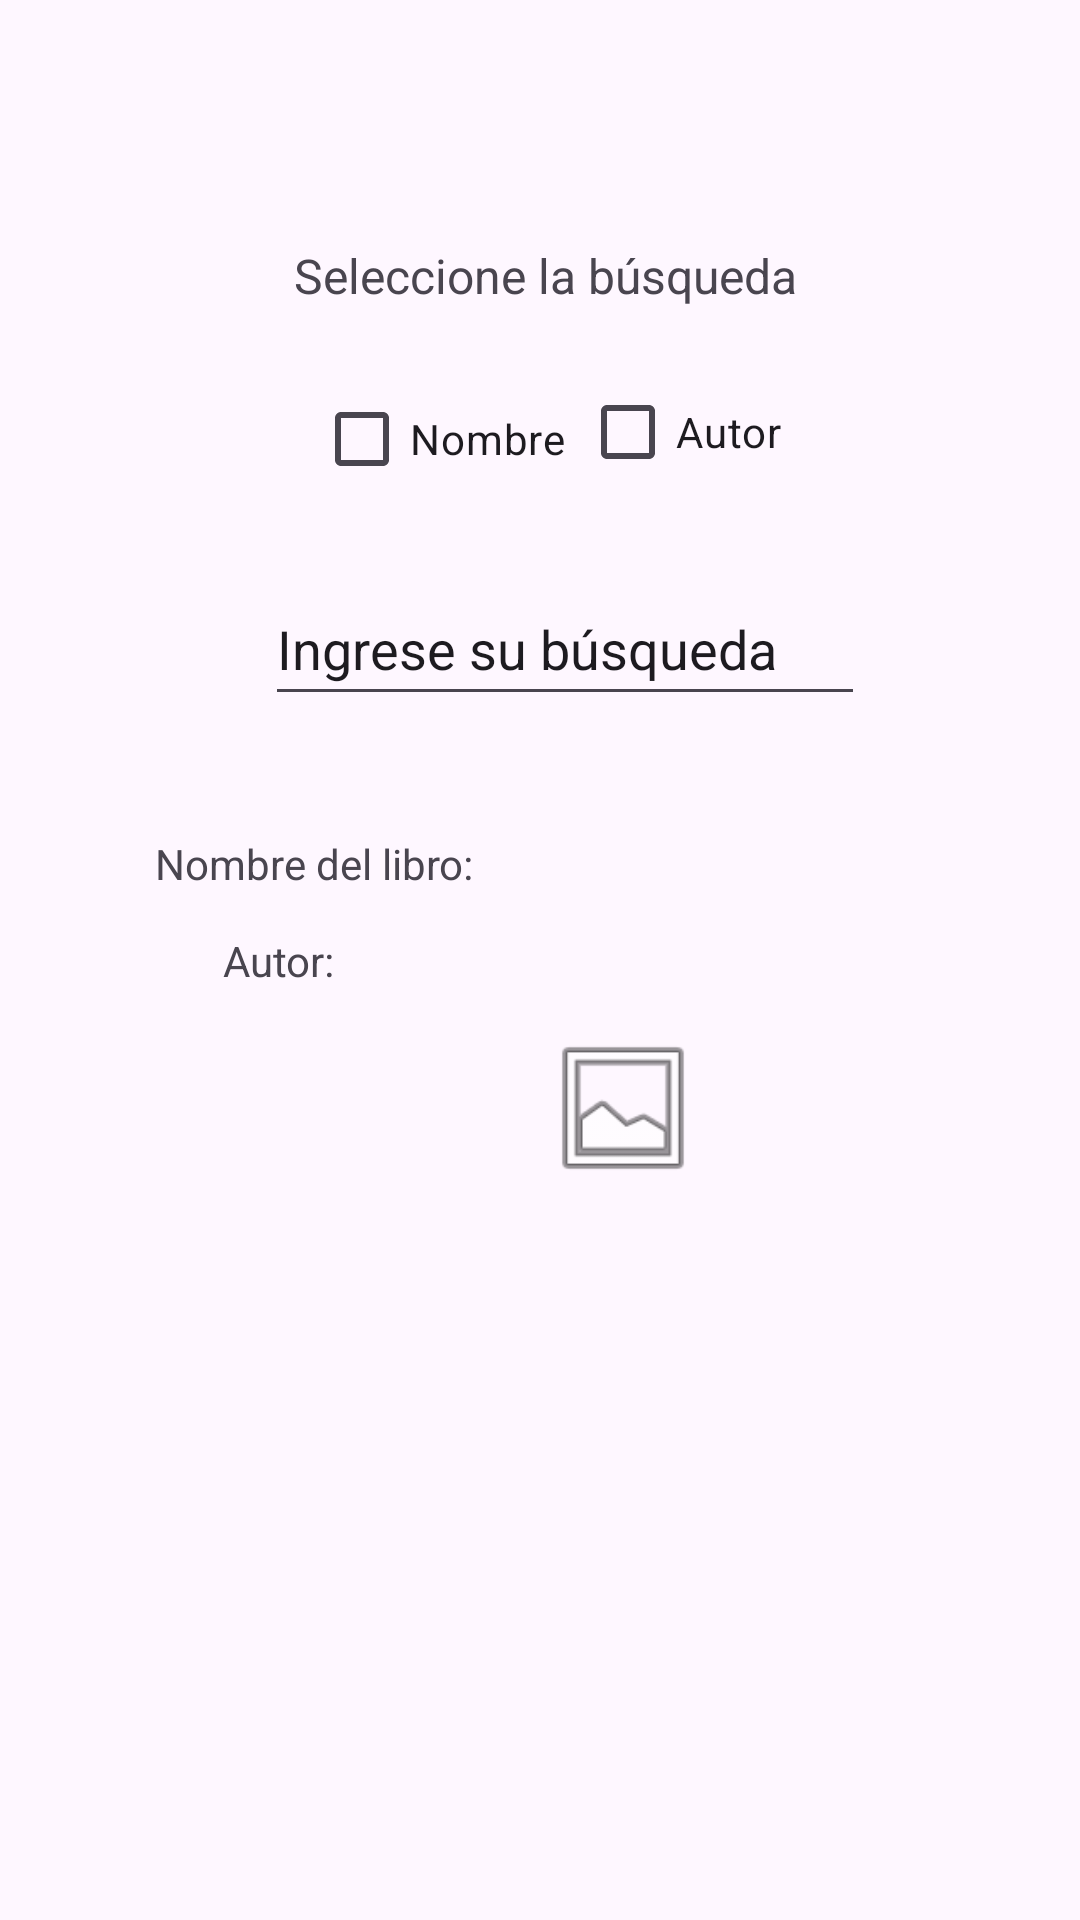

Where to tap for icons on this 1080*1920 app screen, as (x=x, y=y):
gallery: (x=623, y=1108)
